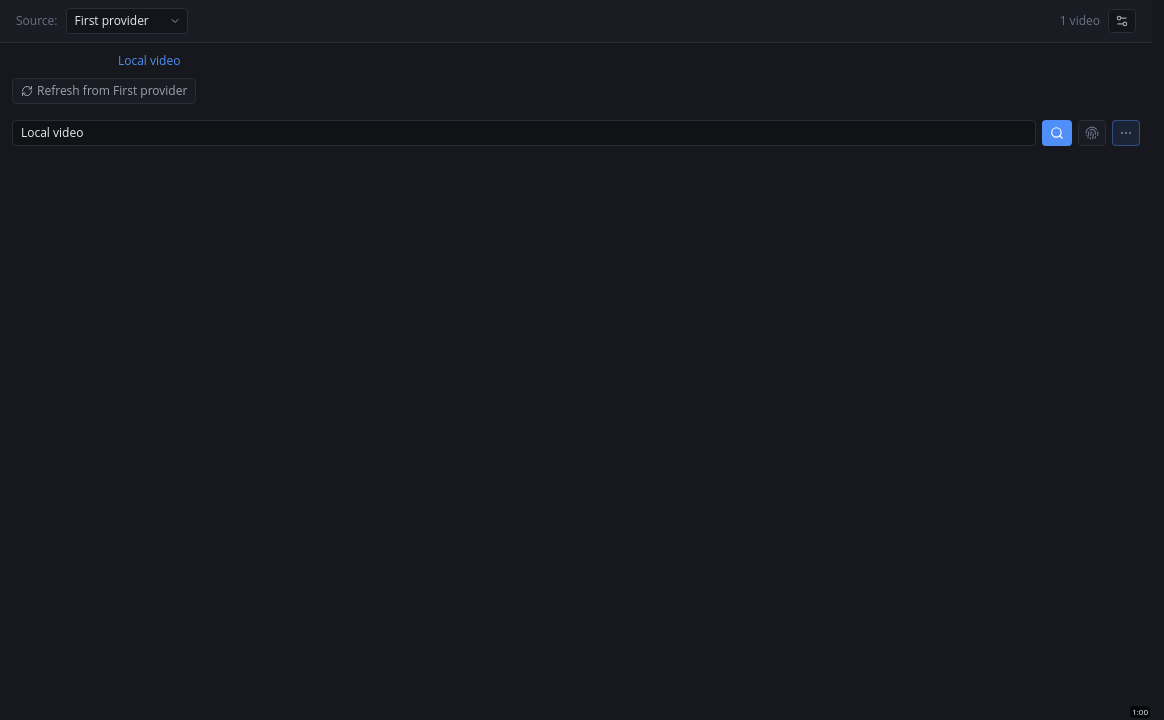
Test: VideoTagger › clears results when the metadata provider changes
Click the button "Refresh from First provider" at coordinates (104, 90), box 12,78 -> 196,104
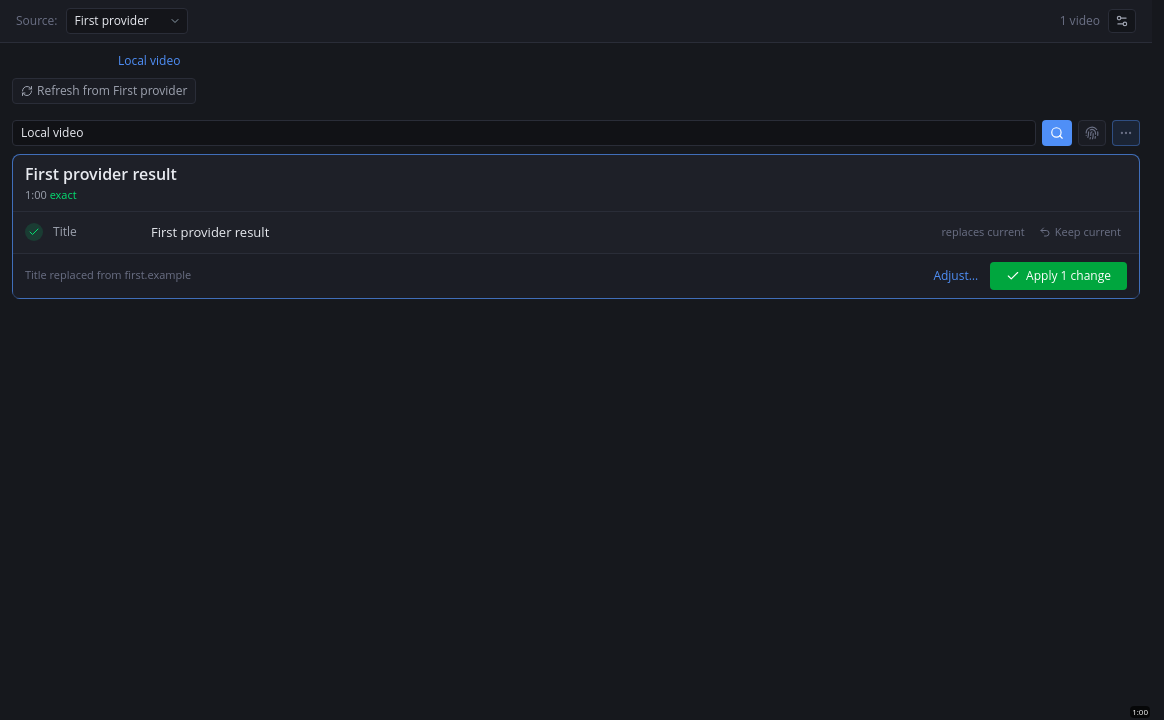
Expected: the text "Empty fields are filled from" is not shown
Now the 1st text "First provider result" is shown, box 25,162 -> 177,184
Now the button "Apply 1 change" is shown, box 990,262 -> 1127,290
Click the button "Adjust…" at coordinates (956, 276), box 933,268 -> 978,284
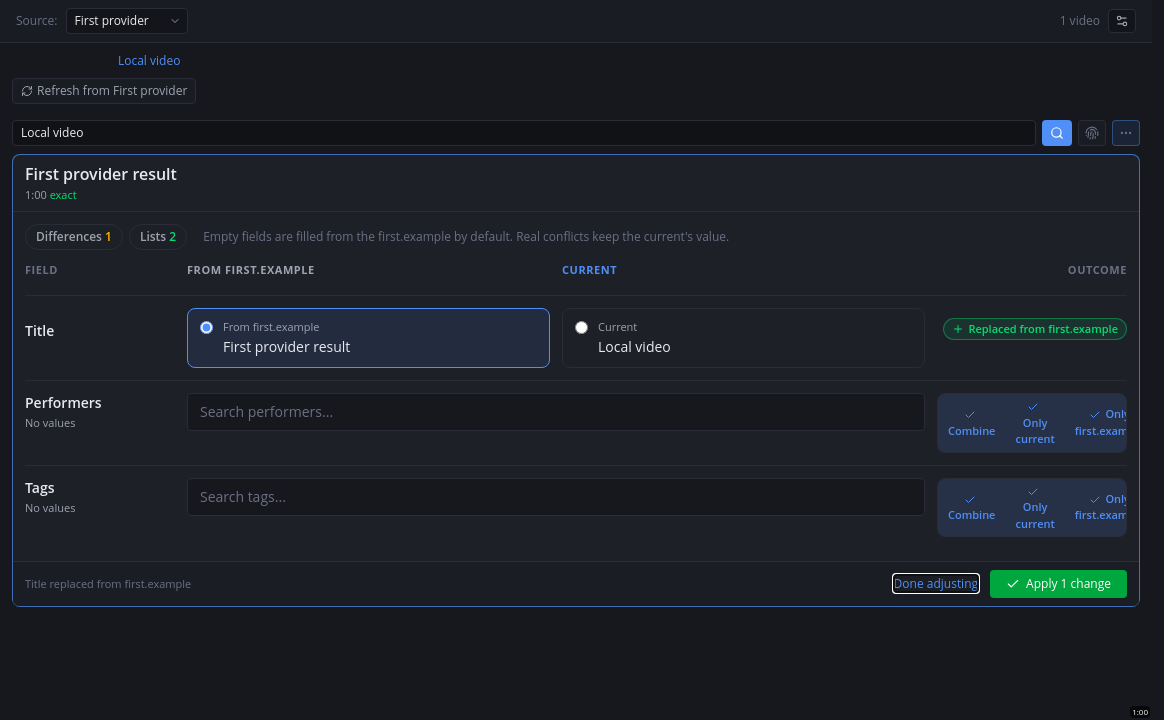
Now the text "Empty fields are filled from" is shown, box 203,228 -> 378,245
Click the button "Done adjusting" at coordinates (936, 584), box 894,576 -> 978,592
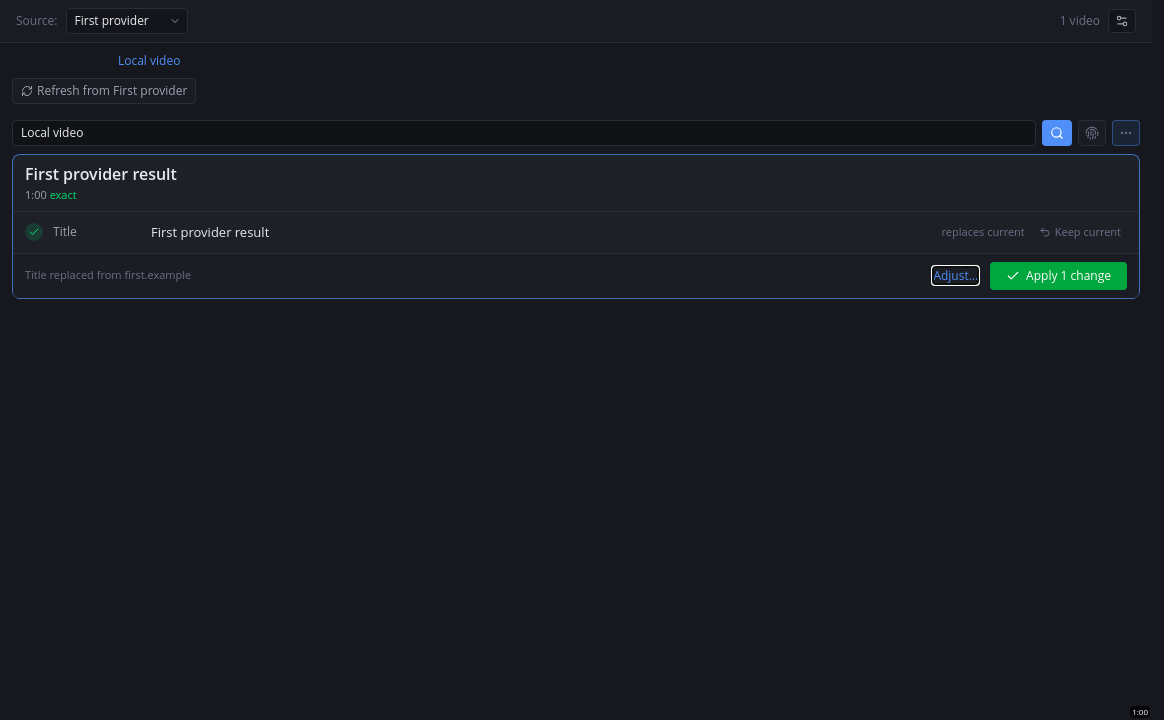
Now the text "Empty fields are filled from" is gone
Select "Second provider" in the dropdown at coordinates (126, 21), box 66,8 -> 188,34
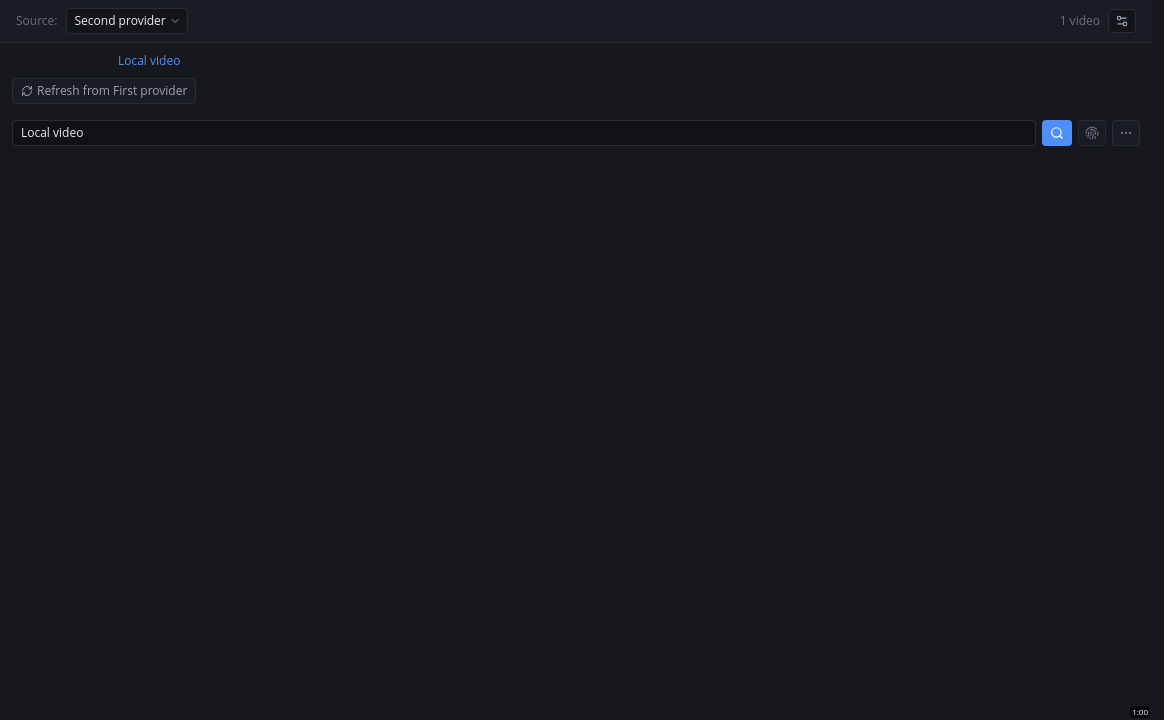
Now the text "First provider result" is not shown
Now the button "Apply" is gone
